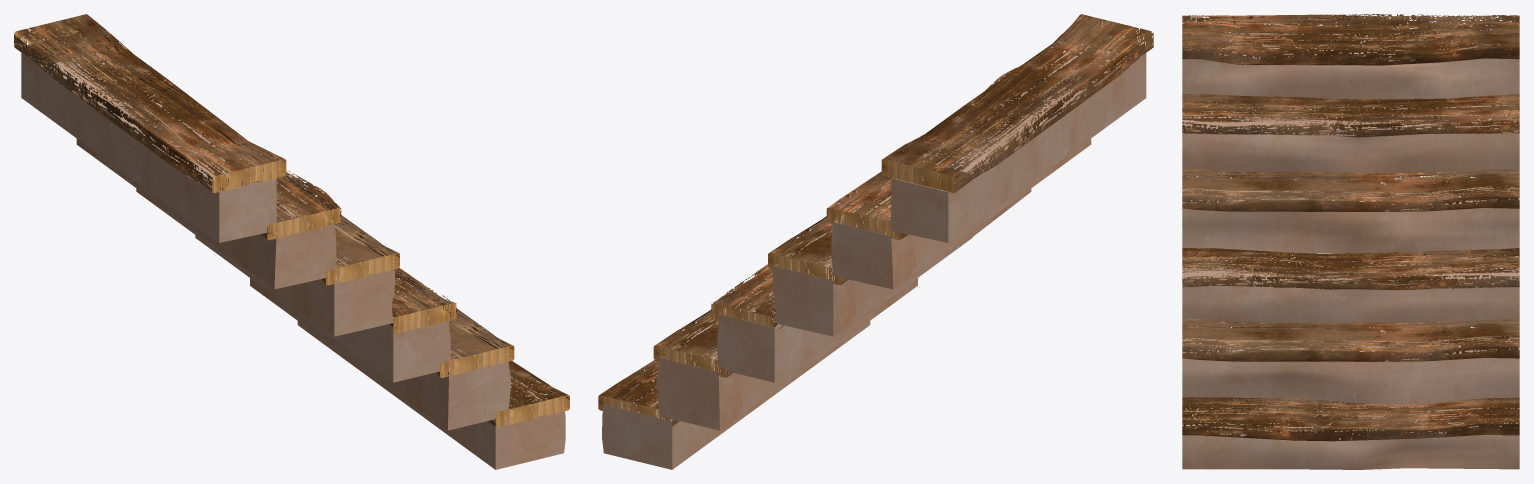
3 views of the same model, side by side, from view 1: azimuth 30°, elevation 25°; view 2: azimuth 150°, elevation 25°; view 3: azimuth 270°, elevation 25° (orthographic). The views are drawn at different scales.
Parts seen in each view (by area): view 1: SM_BB_T4_Stairs_LOD0; view 2: SM_BB_T4_Stairs_LOD0; view 3: SM_BB_T4_Stairs_LOD0.
Part boxes in pixels (x1,y1,x2,y2): SM_BB_T4_Stairs_LOD0: (14,14,569,469); SM_BB_T4_Stairs_LOD0: (598,14,1153,469); SM_BB_T4_Stairs_LOD0: (1182,14,1519,469).
Size of the model in its own units: 1.57 by 1.52 by 1.5.
2 materials, 2 textured.
